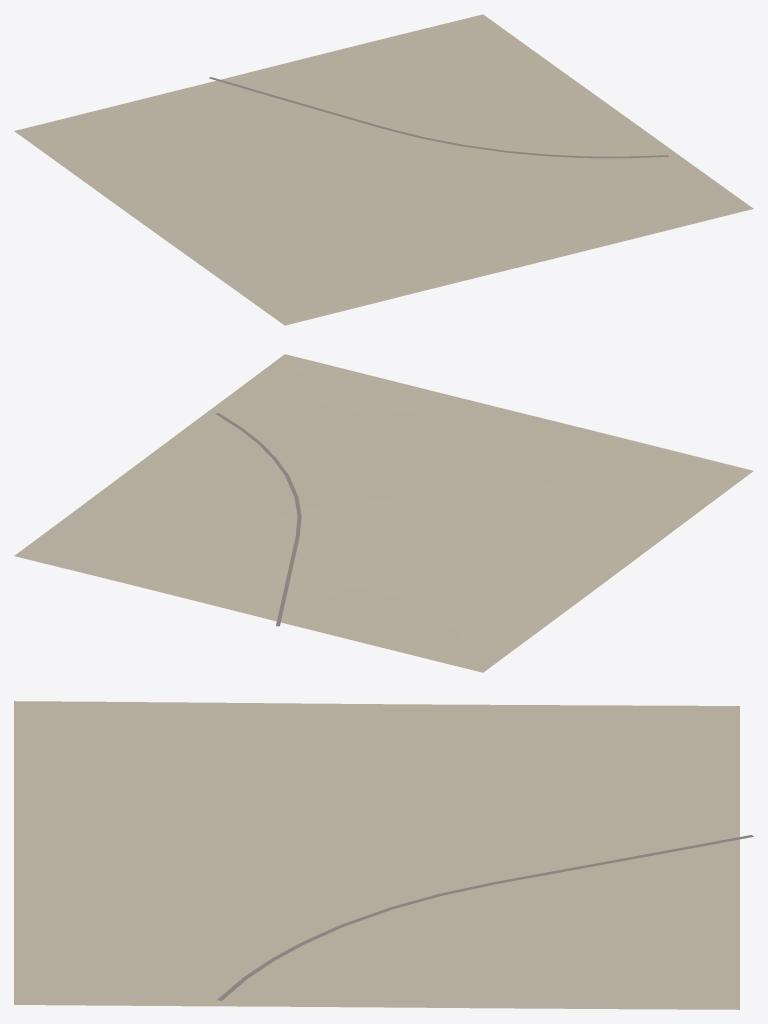
File: bolak_-31_6.glb
3 views of the same model, one above another, from view 1: azimuth 30°, elevation 25°; view 2: azimuth 150°, elevation 25°; view 3: azimuth 270°, elevation 25° (orthographic). The views are drawn at different scales.
Parts seen in each view (by area): view 1: Yer_Tuproq-col, Temir_Yol; view 2: Yer_Tuproq-col, Temir_Yol; view 3: Yer_Tuproq-col, Temir_Yol.
Boxes of the visible parts, box(x1,y1,x2,y2) form: Yer_Tuproq-col: box(14, 14, 753, 325); Temir_Yol: box(209, 77, 668, 158); Yer_Tuproq-col: box(14, 354, 753, 672); Temir_Yol: box(215, 413, 301, 626); Yer_Tuproq-col: box(14, 701, 739, 1009); Temir_Yol: box(217, 835, 753, 1000).
Bounding box in the file's own units: 400 × 4.88 × 408.
